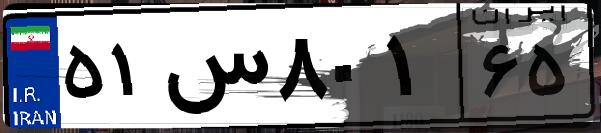0: (330, 28, 385, 110)
1: (385, 28, 445, 110), (110, 28, 158, 98)
5: (57, 26, 110, 100), (525, 38, 570, 115)
6: (475, 38, 525, 113)
8: (270, 28, 330, 110)
س: (158, 20, 270, 120)
